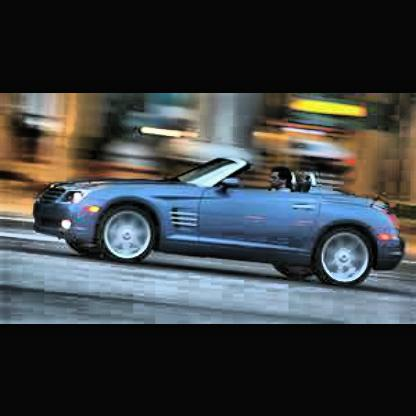Chrysler Crossfire Convertible 2008: (36, 159, 409, 289)
